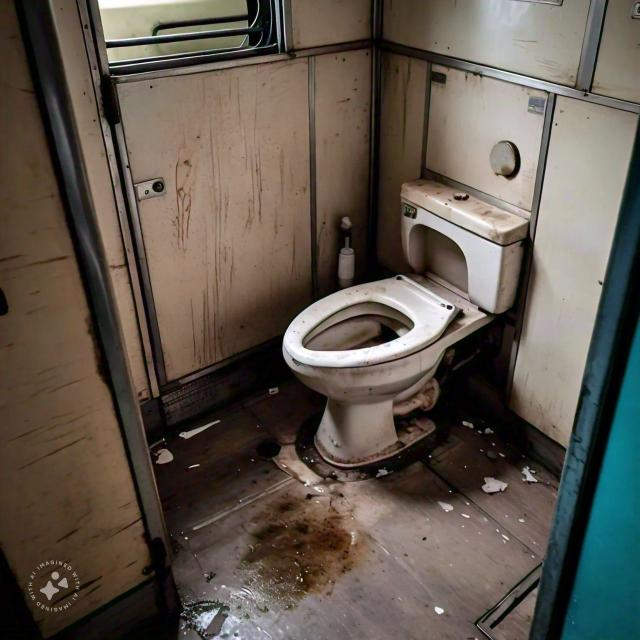Toilet: (204, 122, 526, 552)
